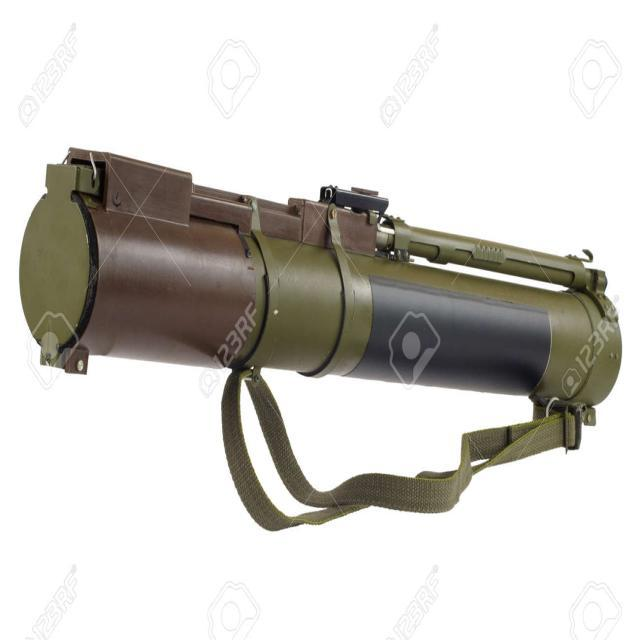rocket: (19, 104, 628, 550)
